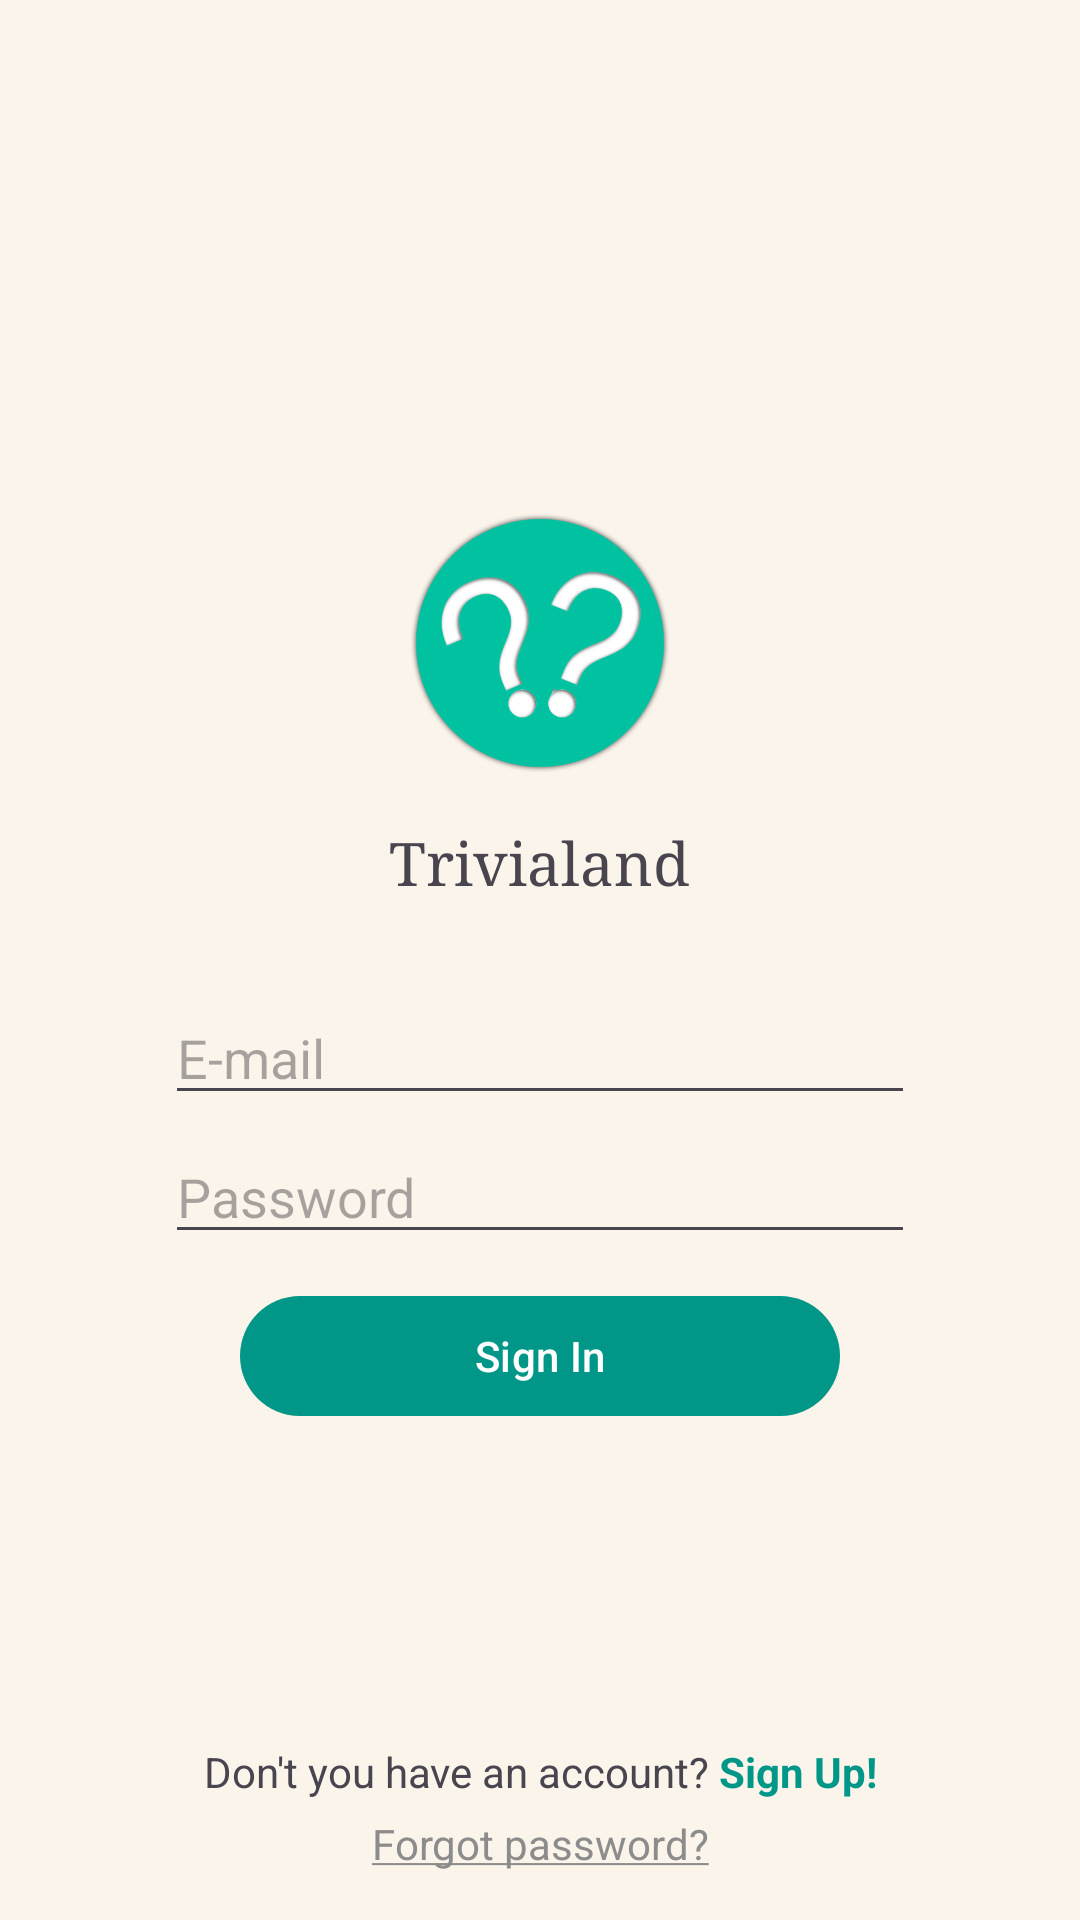

Icon bounding boxes for this 1080 × 1920 phone screenshot, format (x1, y1, x2, y2):
emblem: (413, 516, 667, 770)
